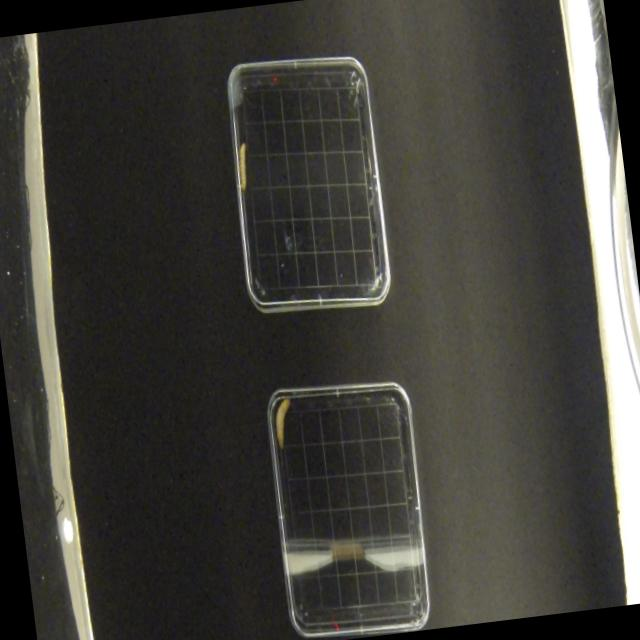larva: (270, 396, 297, 450), (236, 142, 252, 192)
